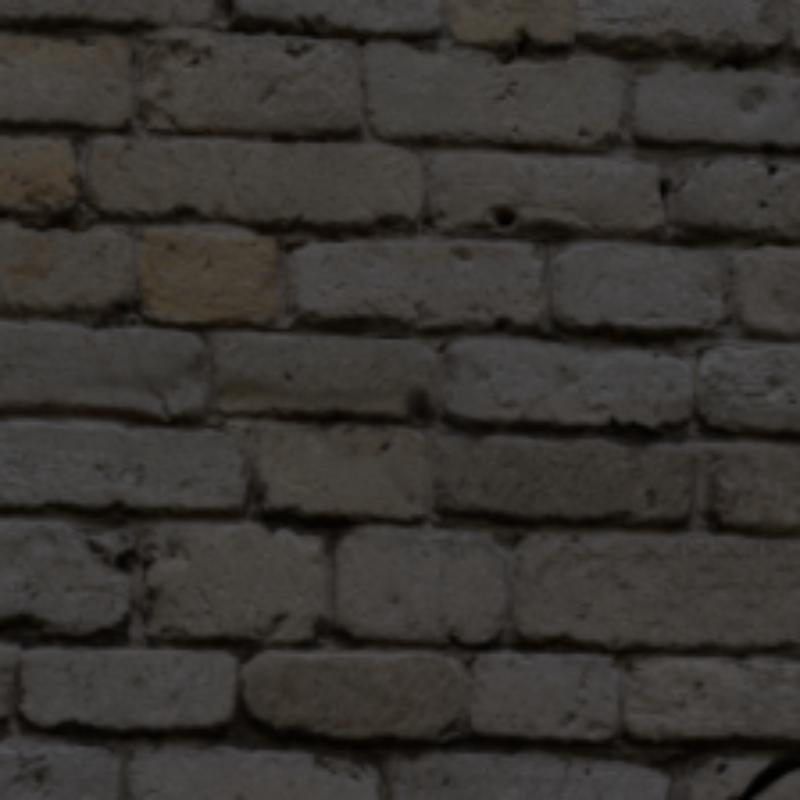pothole: (736, 754, 796, 796)
